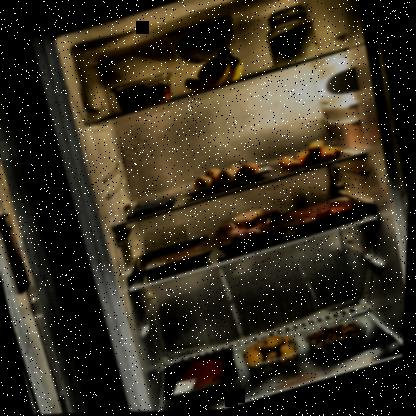banana: (175, 43, 250, 98)
beef: (154, 345, 249, 411)
carrot: (273, 132, 349, 178)
chicken: (206, 195, 301, 266), (134, 235, 217, 284)
chocolate: (122, 192, 182, 222)
eggs: (190, 155, 263, 199)
ground_beef: (281, 188, 372, 238)
potato: (242, 329, 307, 381)
shrimp: (305, 314, 374, 362)
strawberries: (108, 72, 177, 117)
